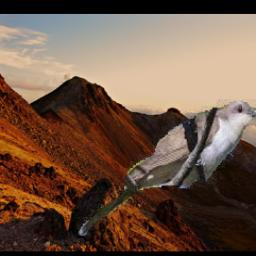Cuckoo: (78, 100, 256, 237)
